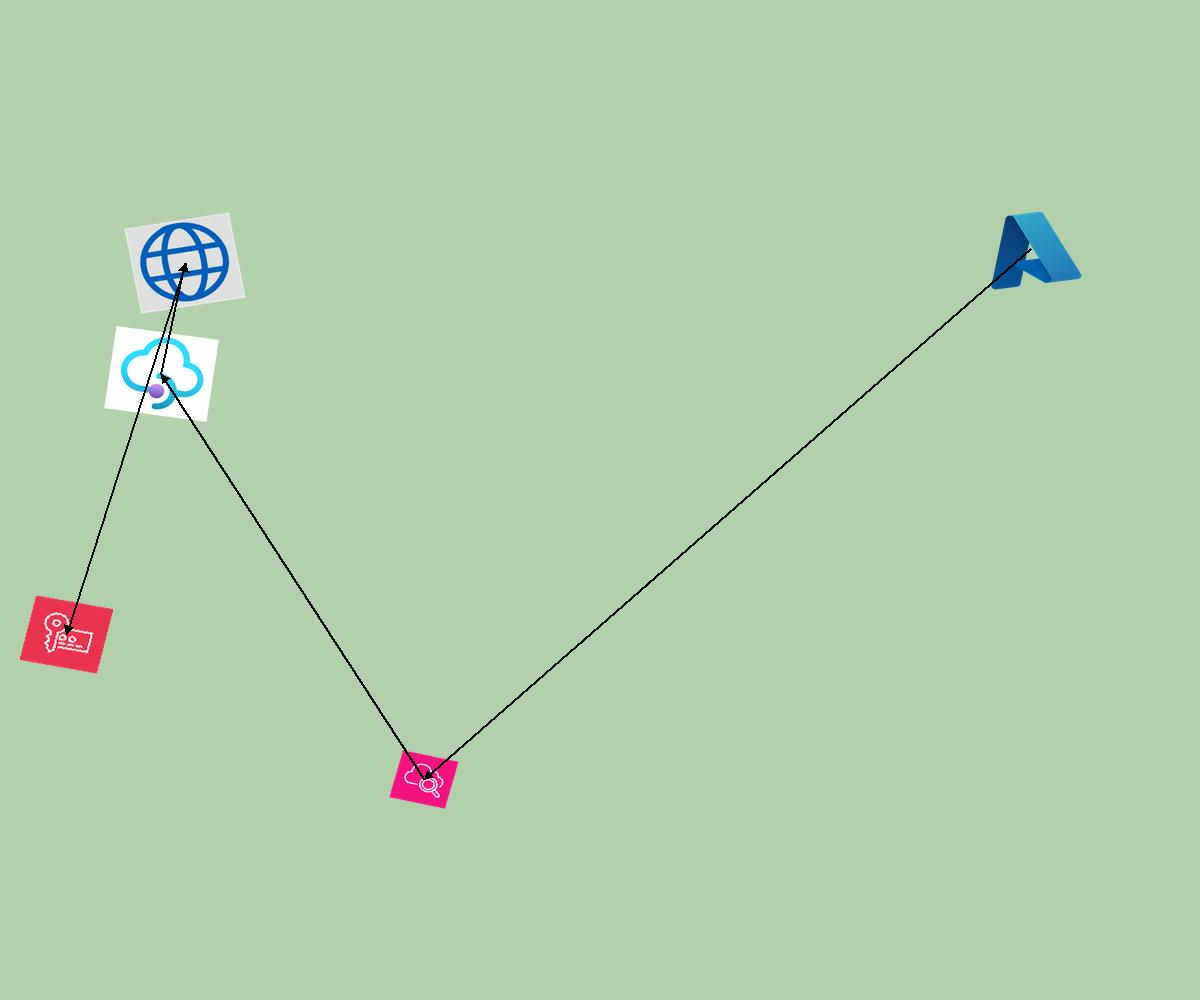AWS-CloudWatch: (389, 750, 459, 809)
AWS-Key-Management-Service: (19, 595, 114, 674)
Azure_api_gateway: (104, 326, 219, 422)
Azure_http: (124, 212, 246, 314)
Azure_services: (974, 202, 1087, 296)
